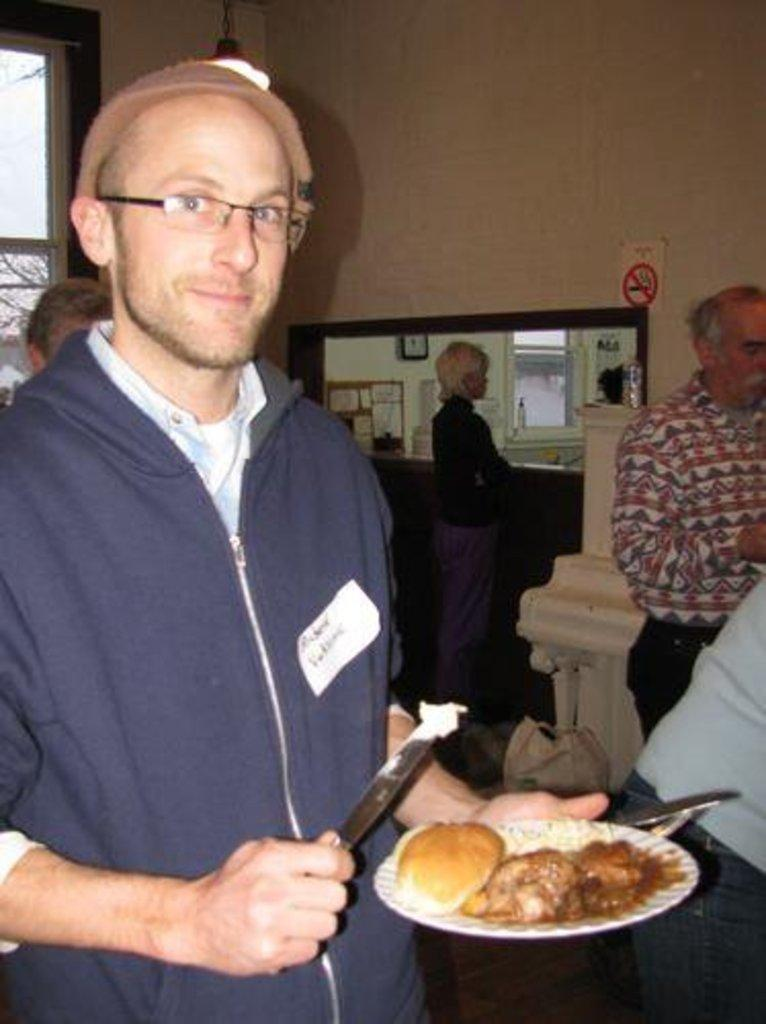no_helmet: (145, 30, 333, 178), (594, 284, 666, 331)
none: (97, 309, 408, 894)
